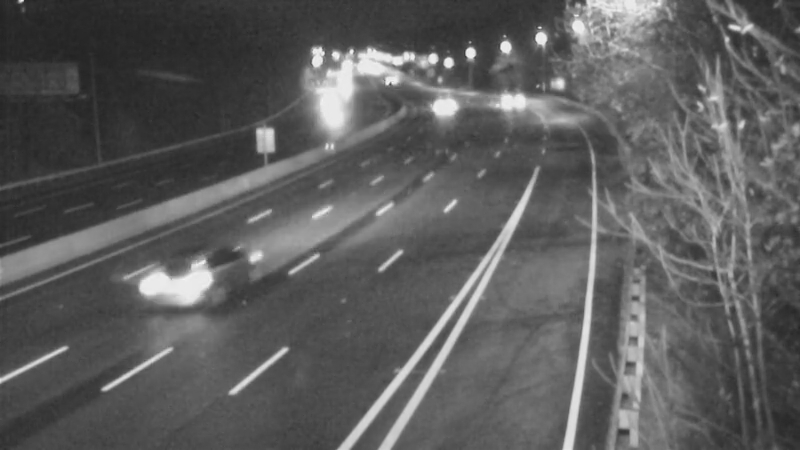vehicle: (141, 241, 221, 321), (364, 56, 414, 106), (482, 75, 532, 125), (420, 80, 470, 130), (301, 76, 351, 126)
